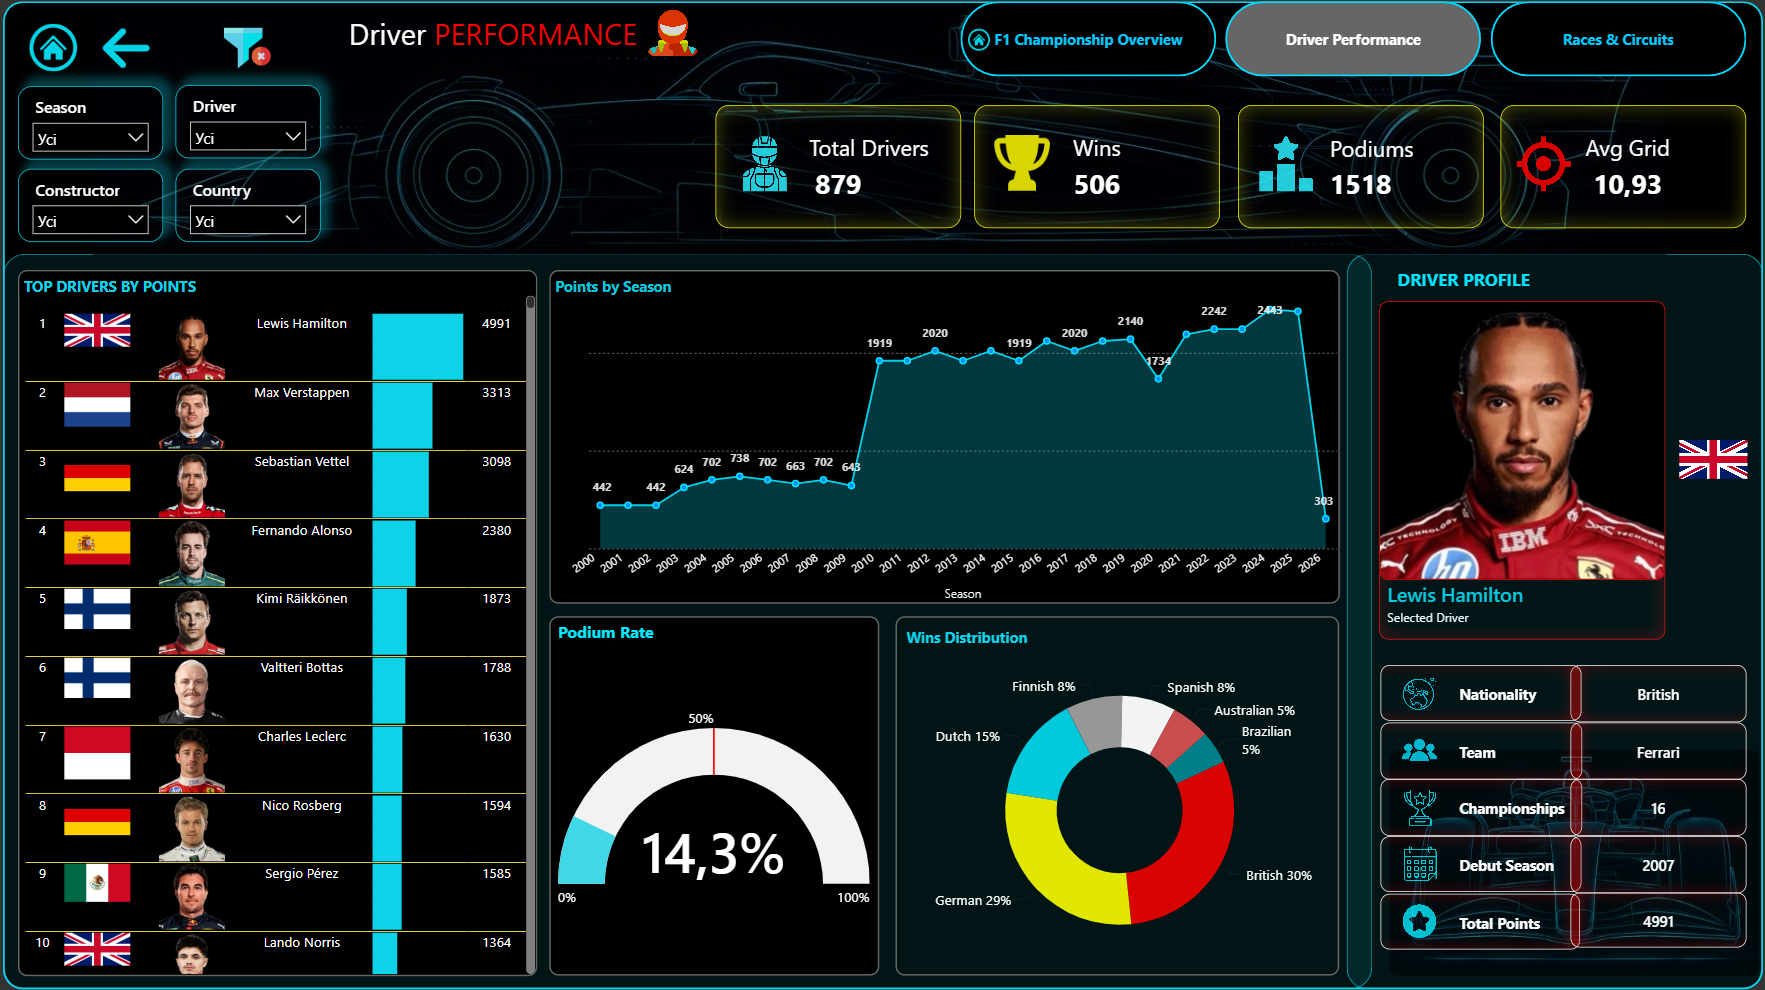

The page's visual inventory and layout, read from the dashboard file:
{"tool":"powerbi","page":{"name":"Driver Performance","canvas":[1920,1080],"ordinal":1},"visuals":[{"type":"shape","box":[0,2,1920,1078],"z":0},{"type":"cardVisual","fields":{"Data":["Measures_.Selected Driver"]},"box":[1502,618,312,80],"z":1000},{"type":"shape","box":[1465.8,277.5,454.2,802.5],"z":2000},{"type":"shape","box":[0,277.5,1493.8,802.5],"z":3000},{"type":"image","box":[98,16,1716,262],"z":4000},{"type":"pageNavigator","box":[1044,2,858,82],"z":5000},{"type":"textbox","box":[372.7,10,489.2,68.3],"z":6000},{"type":"tableEx","title":"TOP DRIVERS BY POINTS","fields":{"Values":["Measures_.Driver Rank","f1_drivers.Flag URL","f1_drivers.Image URL","f1_drivers.Driver Name","Measures_.Progress","Measures_.Total Points"]},"box":[16,294,566,770],"z":7000},{"type":"cardVisual","fields":{"Data":["Measures_.Total Wins"]},"box":[1060,114.4,268,134],"z":8000},{"type":"cardVisual","fields":{"Data":["Measures_.Total Drivers"]},"box":[776.7,114.4,268,134],"z":9000},{"type":"cardVisual","fields":{"Data":["Measures_.Avg Grid Position"]},"box":[1634,114,268,134],"z":10000},{"type":"slicer","fields":{"Values":["f1_circuits_races.Year"]},"box":[15.8,94.2,158,80],"z":11000},{"type":"cardVisual","fields":{"Data":["Measures_.Podiums"]},"box":[1347.8,114.4,268,134],"z":12000},{"type":"textbox","box":[1443.3,140,130,44.4],"z":13000},{"type":"slicer","fields":{"Values":["f1_drivers.Driver Name"]},"box":[188,93.3,158,80],"z":14000},{"type":"slicer","fields":{"Values":["f1_constructors.name"]},"box":[15.8,184.2,158,80],"z":15000},{"type":"image","box":[1512,818,404,246],"z":16000},{"type":"lineChart","title":"Points by Season","fields":{"Category":["f1_results.season"],"Y":["Measures_.Total Points"]},"box":[596,294,862,364],"z":17000},{"type":"image","box":[1502,328,312,304],"z":18000},{"type":"image","box":[1828,480,74,42],"z":19000},{"type":"textbox","box":[1516.7,287.8,403.3,40],"z":20000},{"type":"cardVisual","fields":{"Data":["Measures_.Selected Nationality"]},"box":[1710,726,192,62],"z":21000},{"type":"textbox","box":[1502.2,725.6,218.9,61.1],"z":22000},{"type":"textbox","box":[1502.2,787.8,220,62.2],"z":23000},{"type":"cardVisual","fields":{"Data":["Measures_.Selected Team"]},"box":[1710,788,192,62],"z":24000},{"type":"textbox","box":[1502.2,850,220,62.2],"z":25000},{"type":"cardVisual","fields":{"Data":["Measures_.Selected Championships"]},"box":[1710,850,192,62],"z":26000},{"type":"textbox","box":[1502.2,912.2,218.9,61.1],"z":27000},{"type":"cardVisual","fields":{"Data":["Measures_.Selected Debut Season"]},"box":[1710,912,192,62],"z":28000},{"type":"textbox","box":[1502.2,974.4,217.8,61.1],"z":29000},{"type":"cardVisual","fields":{"Data":["Measures_.Selected Total Points"]},"box":[1710,974,192,60],"z":30000},{"type":"donutChart","title":"Wins Distribution","fields":{"Category":["f1_drivers.nationality"],"Y":["Measures_.Nationality Wins"]},"box":[974,672,484,392],"z":31000},{"type":"gauge","fields":{"Y":["Measures_.Podium Rate"]},"box":[596,672,360,392],"z":32000},{"type":"image","box":[702.7,10,56.9,52.3],"z":33000},{"type":"image","box":[801.1,148.9,61.1,60],"z":34000},{"type":"image","box":[1371.1,148.9,58.9,60],"z":35000},{"type":"image","box":[1081.1,147.8,61.1,61.1],"z":36000},{"type":"image","box":[1651.1,148.9,58.9,60],"z":37000},{"type":"image","box":[238.5,27.7,56.2,50.8],"z":38000},{"type":"slicer","fields":{"Values":["f1_circuits_races.country"]},"box":[188,184,158,80],"z":39000},{"type":"image","box":[106.9,27.7,56.2,50.8],"z":40000},{"type":"image","box":[27.7,26.2,55.4,52.3],"z":41000},{"type":"image","box":[1052.7,31.3,24,24],"z":42000},{"type":"image","box":[1523.6,736.4,44,40],"z":43000},{"type":"image","box":[1523.6,797.9,44,40],"z":44000},{"type":"image","box":[1525.7,862.1,40,39],"z":45000},{"type":"image","box":[1525.7,923.6,40,39.3],"z":46000},{"type":"image","box":[1523.6,984.3,44,40],"z":47000}]}

Visuals, with their boxes in screenshot pixels (x1, y1, x2, y2), scaled from the page's 1920x1080 canvas onto the 1765x990 screenshot:
shape: {"x1": 0, "y1": 2, "x2": 1764, "y2": 989}
cardVisual - Measures_.Selected Driver: {"x1": 1381, "y1": 566, "x2": 1668, "y2": 640}
shape: {"x1": 1347, "y1": 254, "x2": 1764, "y2": 989}
shape: {"x1": 0, "y1": 254, "x2": 1373, "y2": 989}
image: {"x1": 90, "y1": 15, "x2": 1668, "y2": 255}
pageNavigator: {"x1": 960, "y1": 2, "x2": 1748, "y2": 77}
textbox: {"x1": 343, "y1": 9, "x2": 792, "y2": 72}
"TOP DRIVERS BY POINTS" tableEx: {"x1": 15, "y1": 270, "x2": 535, "y2": 975}
cardVisual - Measures_.Total Wins: {"x1": 974, "y1": 105, "x2": 1221, "y2": 228}
cardVisual - Measures_.Total Drivers: {"x1": 714, "y1": 105, "x2": 960, "y2": 228}
cardVisual - Measures_.Avg Grid Position: {"x1": 1502, "y1": 104, "x2": 1748, "y2": 227}
slicer - f1_circuits_races.Year: {"x1": 15, "y1": 86, "x2": 160, "y2": 160}
cardVisual - Measures_.Podiums: {"x1": 1239, "y1": 105, "x2": 1485, "y2": 228}
textbox: {"x1": 1327, "y1": 128, "x2": 1446, "y2": 169}
slicer - f1_drivers.Driver Name: {"x1": 173, "y1": 86, "x2": 318, "y2": 159}
slicer - f1_constructors.name: {"x1": 15, "y1": 169, "x2": 160, "y2": 242}
image: {"x1": 1390, "y1": 750, "x2": 1761, "y2": 975}
"Points by Season" lineChart: {"x1": 548, "y1": 270, "x2": 1340, "y2": 603}
image: {"x1": 1381, "y1": 301, "x2": 1668, "y2": 579}
image: {"x1": 1680, "y1": 440, "x2": 1748, "y2": 478}
textbox: {"x1": 1394, "y1": 264, "x2": 1764, "y2": 300}
cardVisual - Measures_.Selected Nationality: {"x1": 1572, "y1": 666, "x2": 1748, "y2": 722}
textbox: {"x1": 1381, "y1": 665, "x2": 1582, "y2": 721}
textbox: {"x1": 1381, "y1": 722, "x2": 1583, "y2": 779}
cardVisual - Measures_.Selected Team: {"x1": 1572, "y1": 722, "x2": 1748, "y2": 779}
textbox: {"x1": 1381, "y1": 779, "x2": 1583, "y2": 836}
cardVisual - Measures_.Selected Championships: {"x1": 1572, "y1": 779, "x2": 1748, "y2": 836}
textbox: {"x1": 1381, "y1": 836, "x2": 1582, "y2": 892}
cardVisual - Measures_.Selected Debut Season: {"x1": 1572, "y1": 836, "x2": 1748, "y2": 893}
textbox: {"x1": 1381, "y1": 893, "x2": 1581, "y2": 949}
cardVisual - Measures_.Selected Total Points: {"x1": 1572, "y1": 893, "x2": 1748, "y2": 948}
"Wins Distribution" donutChart: {"x1": 895, "y1": 616, "x2": 1340, "y2": 975}
gauge - Measures_.Podium Rate: {"x1": 548, "y1": 616, "x2": 879, "y2": 975}
image: {"x1": 646, "y1": 9, "x2": 698, "y2": 57}
image: {"x1": 736, "y1": 136, "x2": 793, "y2": 191}
image: {"x1": 1260, "y1": 136, "x2": 1315, "y2": 191}
image: {"x1": 994, "y1": 135, "x2": 1050, "y2": 191}
image: {"x1": 1518, "y1": 136, "x2": 1572, "y2": 191}
image: {"x1": 219, "y1": 25, "x2": 271, "y2": 72}
slicer - f1_circuits_races.country: {"x1": 173, "y1": 169, "x2": 318, "y2": 242}
image: {"x1": 98, "y1": 25, "x2": 150, "y2": 72}
image: {"x1": 25, "y1": 24, "x2": 76, "y2": 72}
image: {"x1": 968, "y1": 29, "x2": 990, "y2": 51}
image: {"x1": 1401, "y1": 675, "x2": 1441, "y2": 712}
image: {"x1": 1401, "y1": 731, "x2": 1441, "y2": 768}
image: {"x1": 1403, "y1": 790, "x2": 1439, "y2": 826}
image: {"x1": 1403, "y1": 847, "x2": 1439, "y2": 883}
image: {"x1": 1401, "y1": 902, "x2": 1441, "y2": 939}
